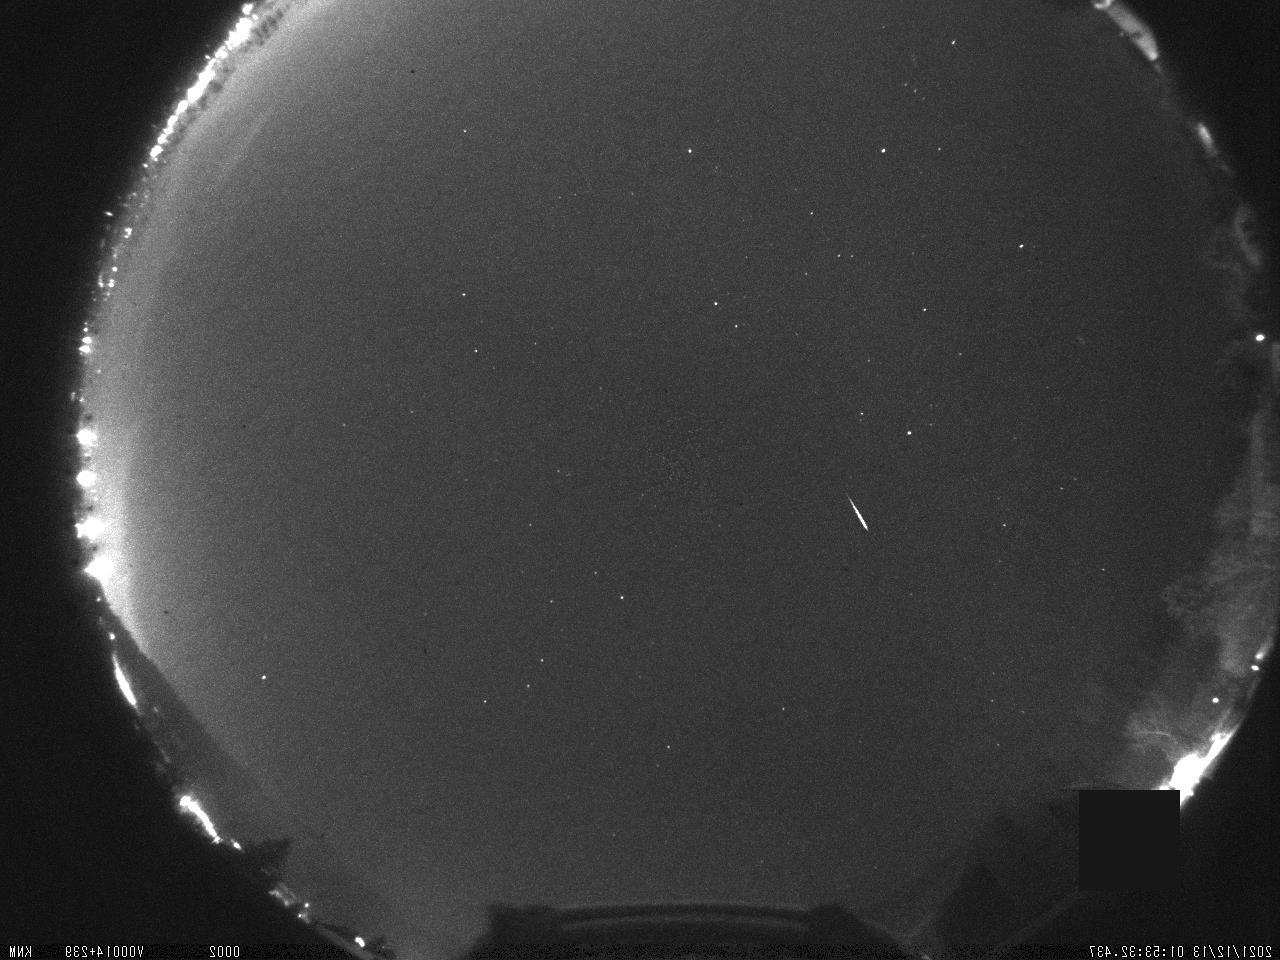meteor: (830, 484, 888, 545)
